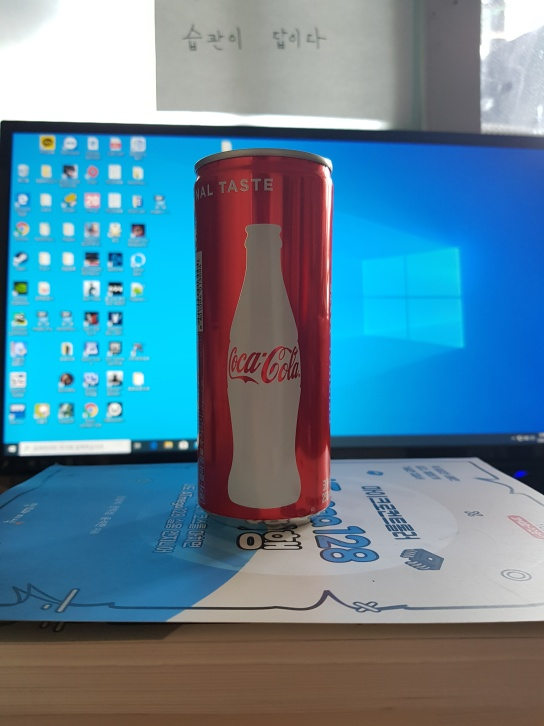Can: (190, 148, 333, 533)
